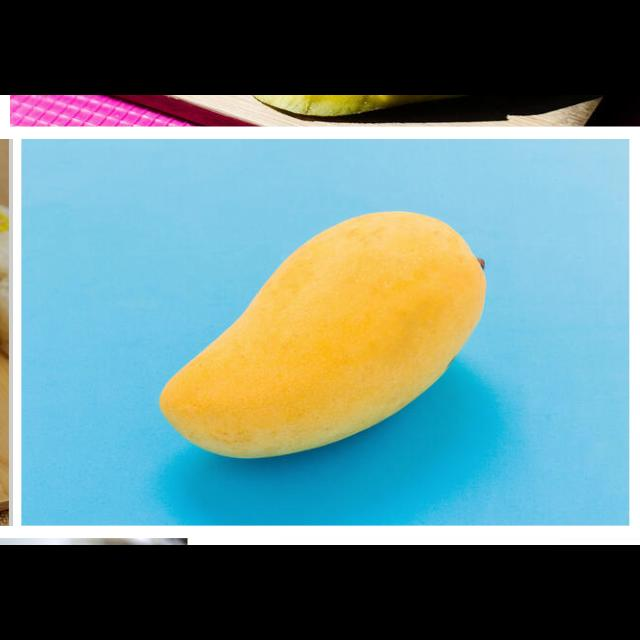mango: (155, 207, 489, 461)
